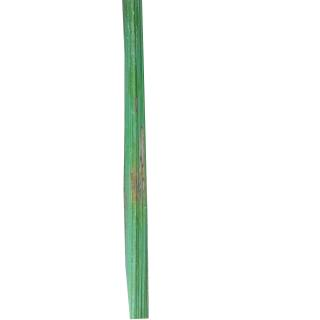Blast: (132, 123, 145, 203)
